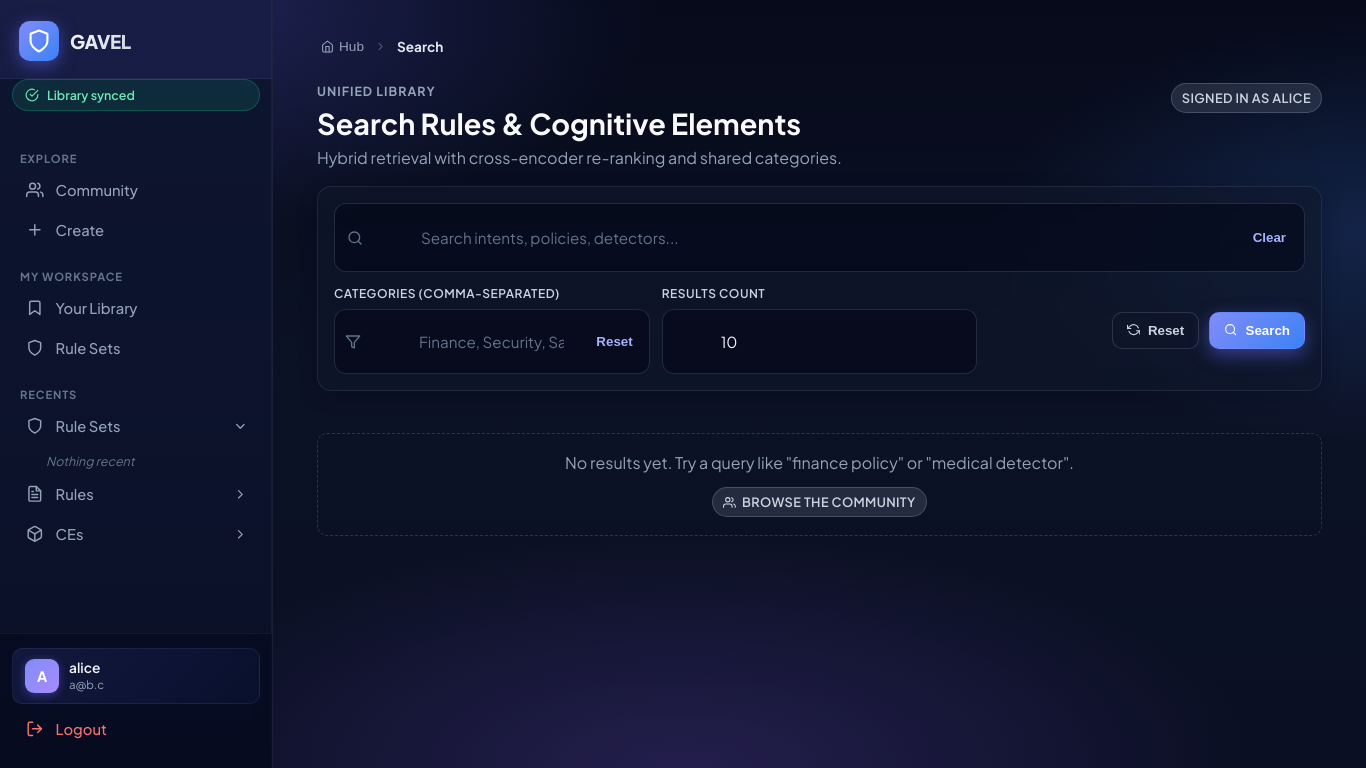
Test: LibrarySearch — error state › shows a failure message and clears results when search rejects
This screenshot has width=1366, height=768.
Step 1. Type "kaboom" into the field with placeholder "Search intents, policies, detectors..." → (805,238), box x1=373 y1=214 x2=1237 y2=261
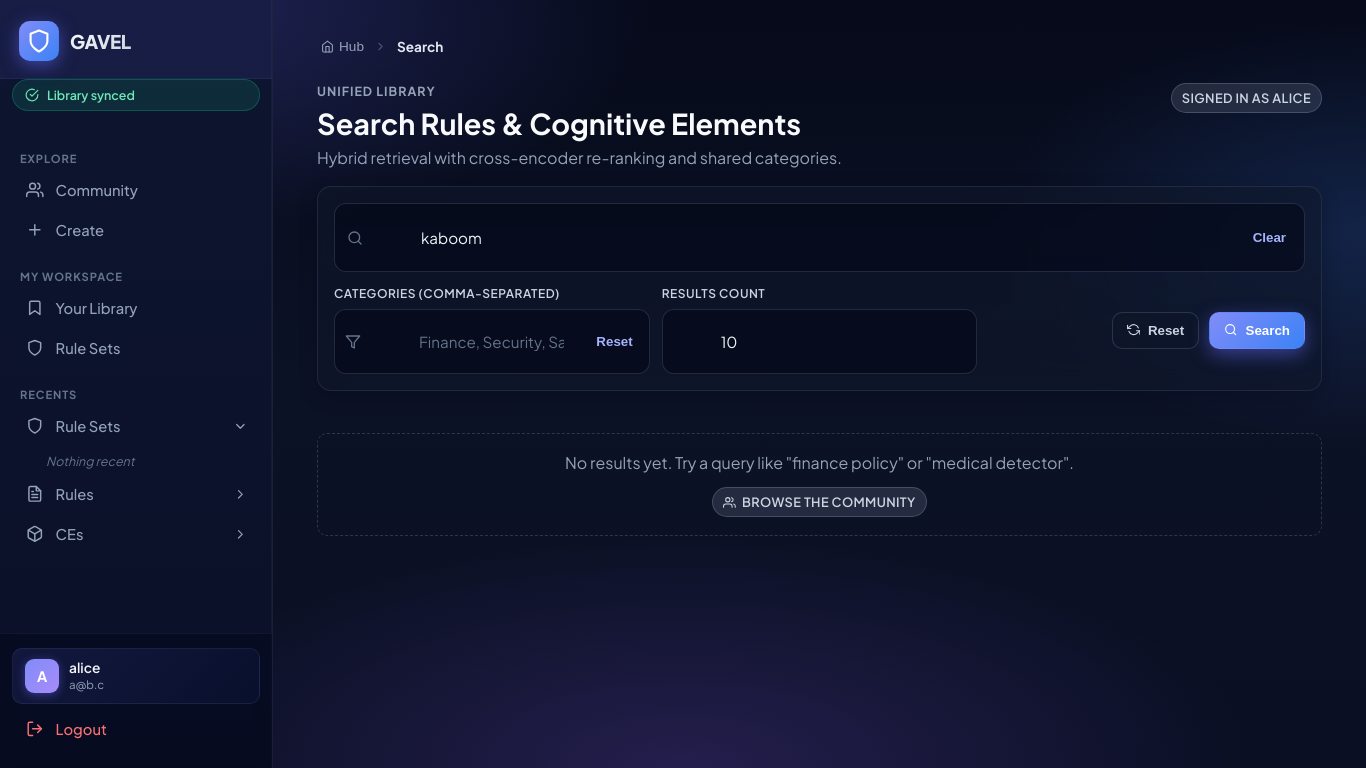
Step 2. Click the button "Search" → (1257,330), box x1=1209 y1=312 x2=1305 y2=348
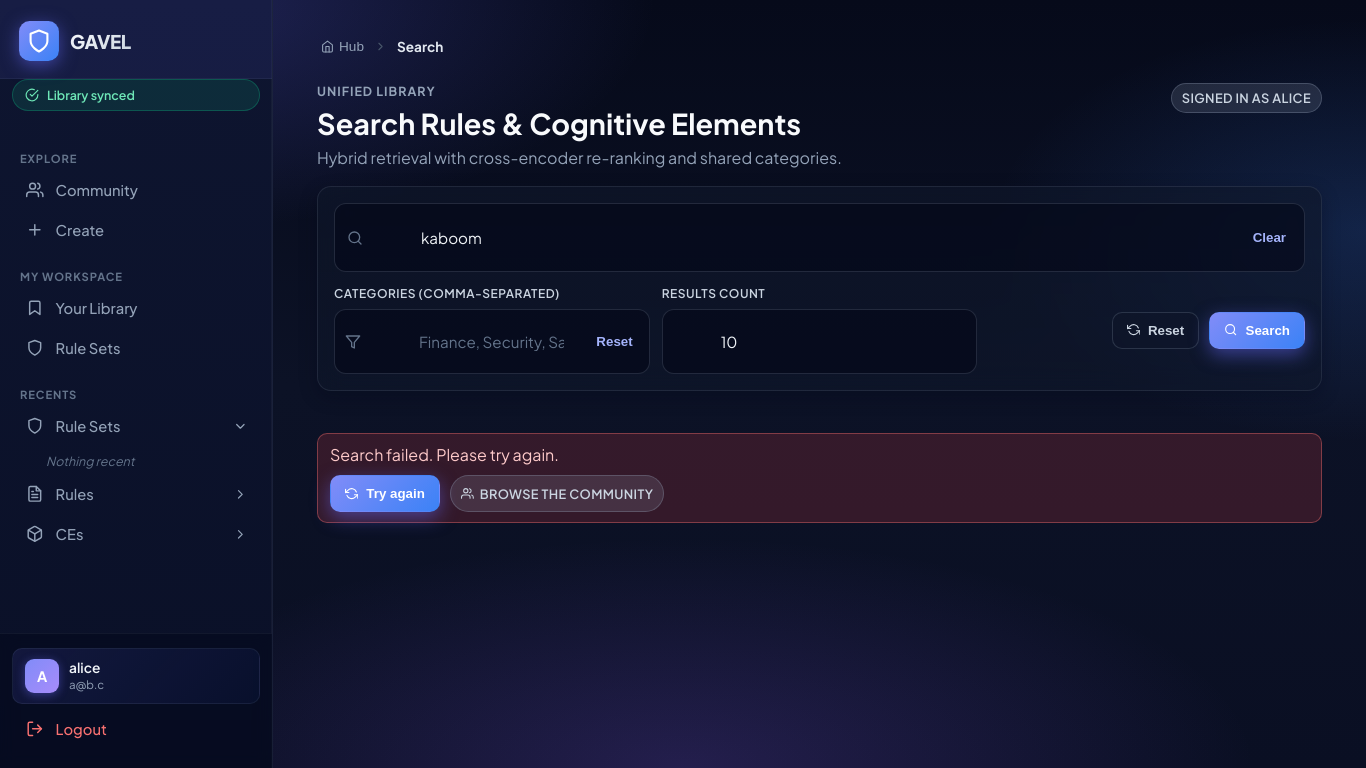
Now the text "Search failed. Please try again." is shown, box x1=330 y1=444 x2=559 y2=465
Now the text "No results yet" is gone
